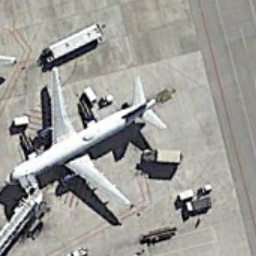Airplane: (2, 58, 174, 219)
